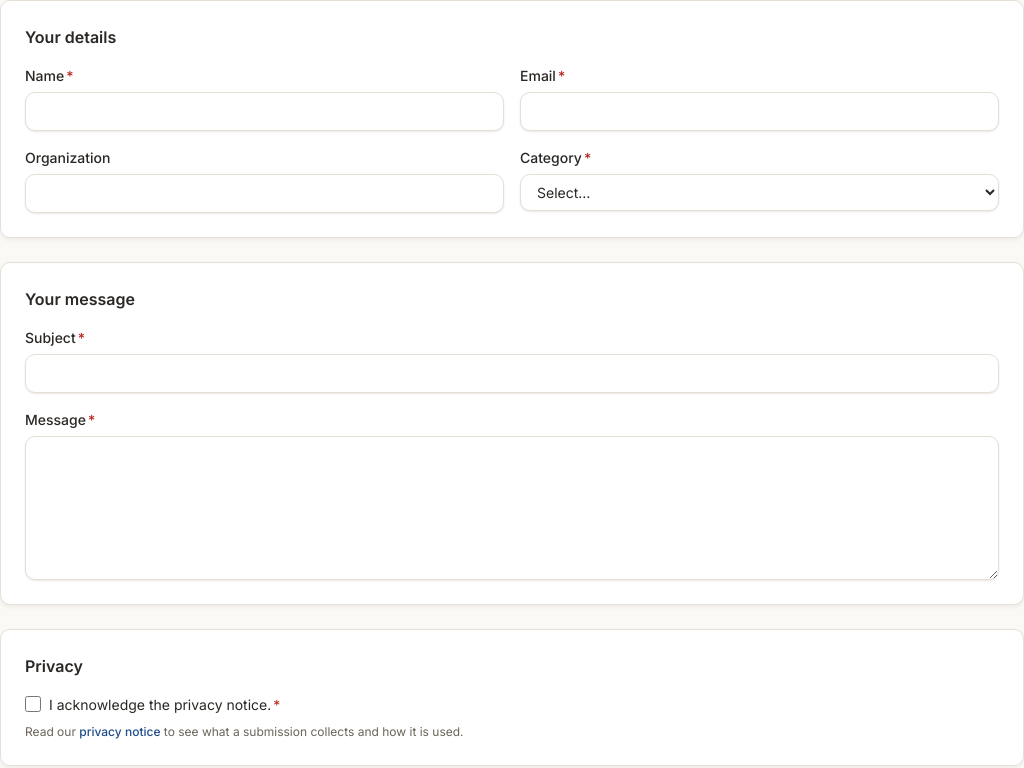
Test case: ContactForm › successful submission › announces success through a live region and clears the form
Type "Neema Mrema" into the field labelled "Name*" at [264, 112], box [25, 92, 504, 131]
Type "neema@khsc.co.tz" into the field labelled "Email*" at [760, 112], box [520, 92, 999, 131]
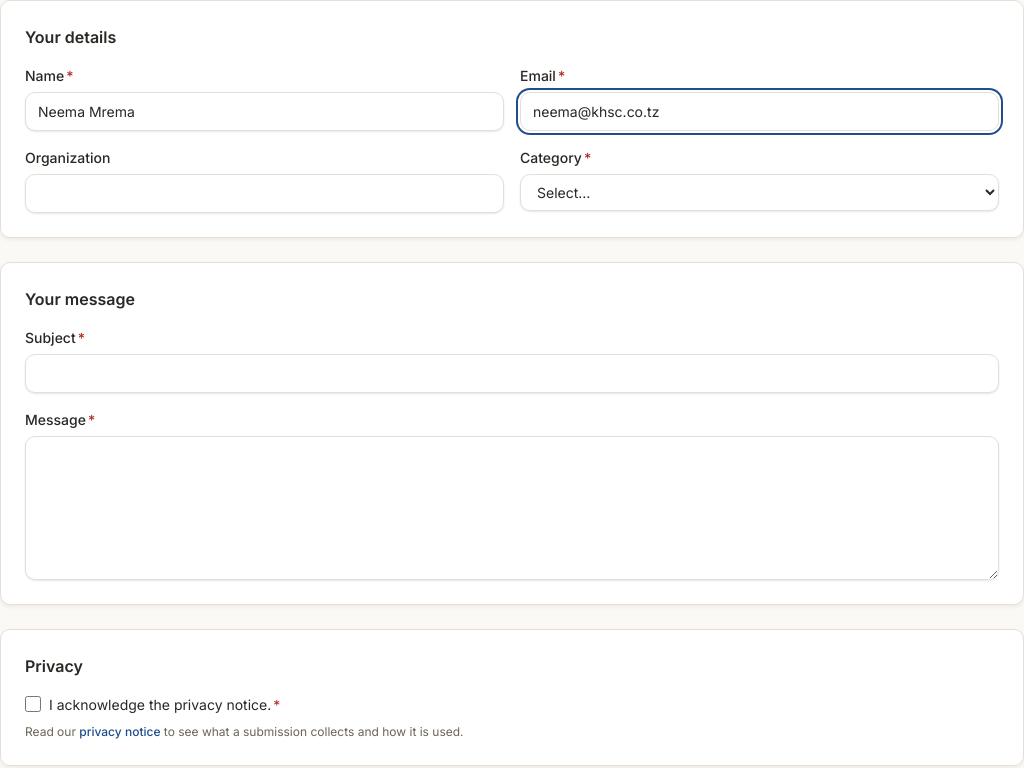
Select "General inquiry" in the dropdown labelled "Category*" at [760, 192], box [520, 174, 999, 211]
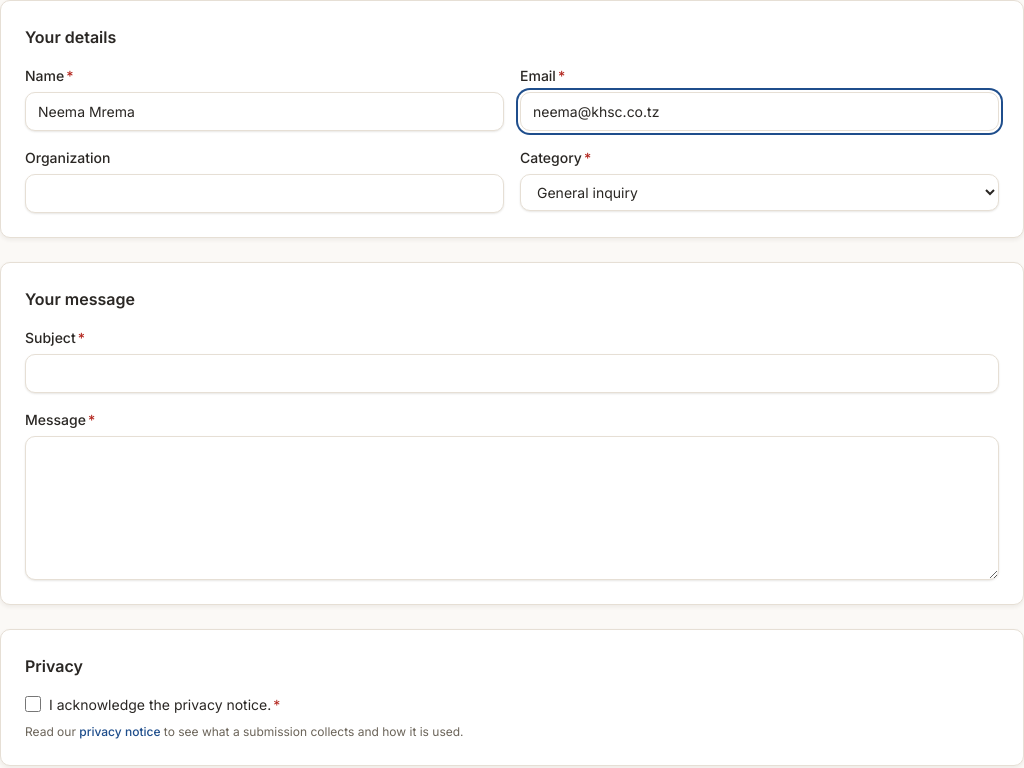
Type "Question about listing" into the field labelled "Subject*" at [512, 374], box [25, 354, 999, 393]
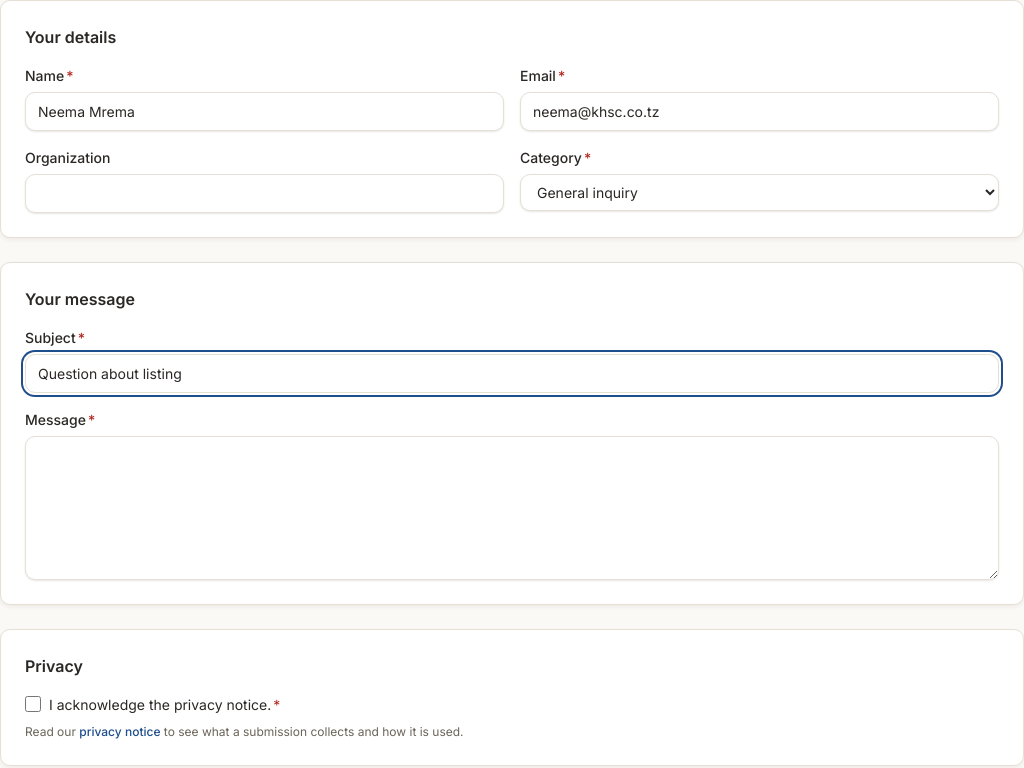
Type "How do we get listed in the public directory?" into the text box labelled "Message*" at [512, 508], box [25, 436, 999, 580]
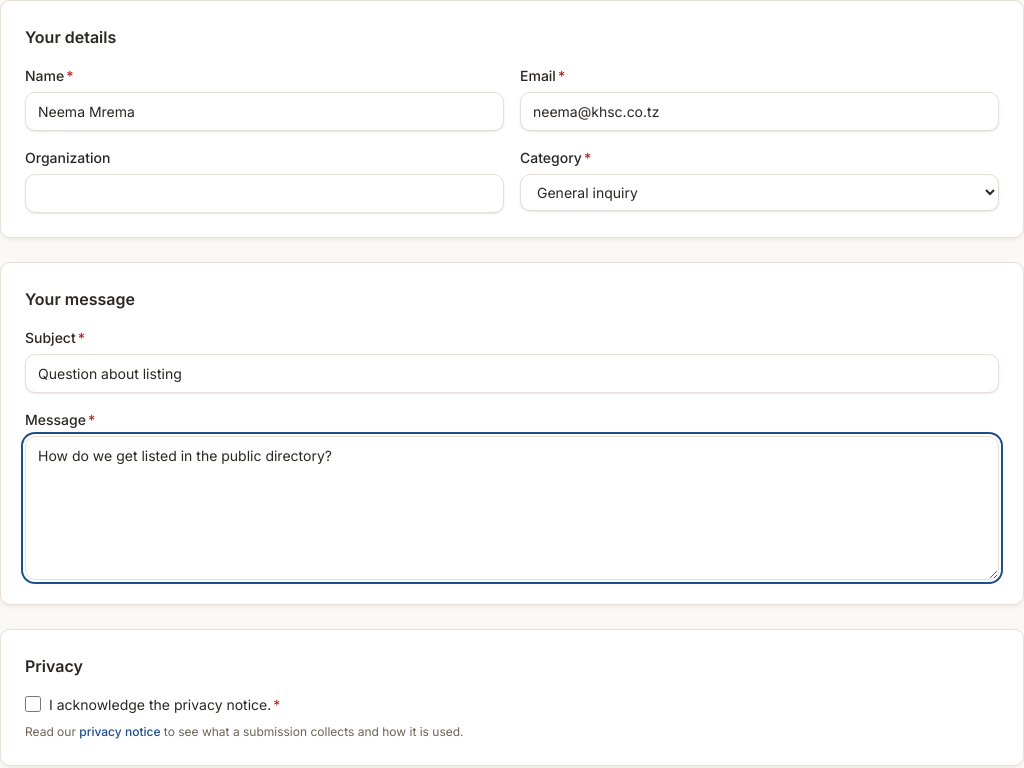
Click the checkbox labelled "I acknowledge the privacy notice.*" at [33, 704], box [25, 696, 41, 712]
(page scrolled)
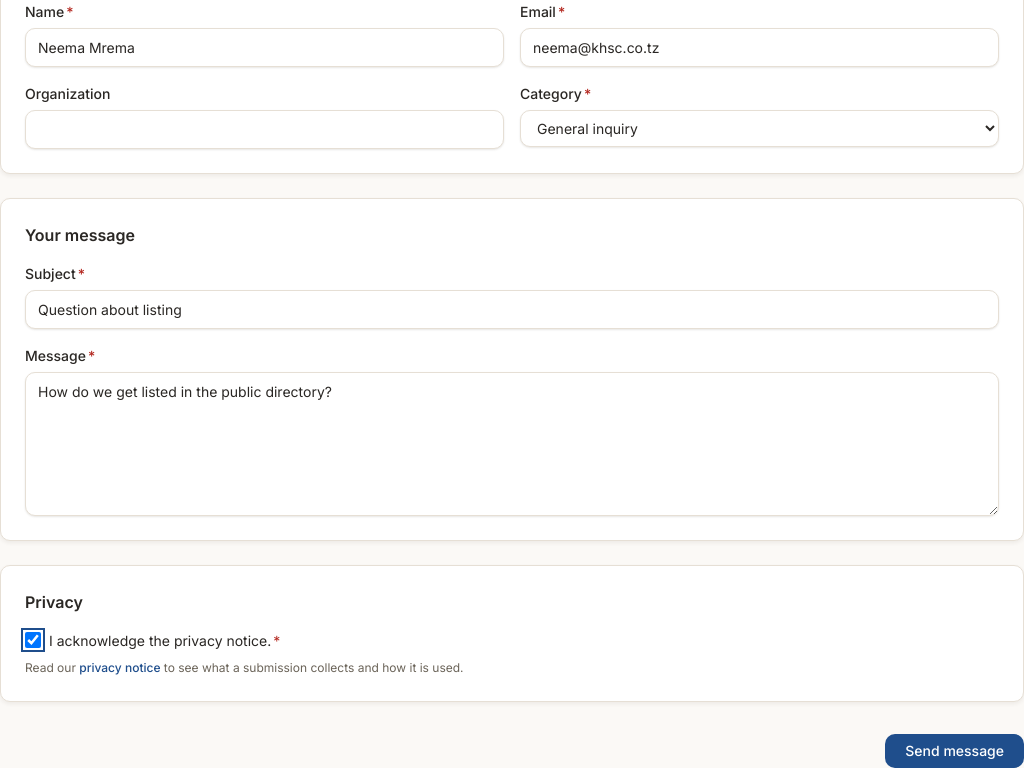
Click the button "Send message" at [955, 751], box [885, 734, 1023, 767]
(page scrolled)
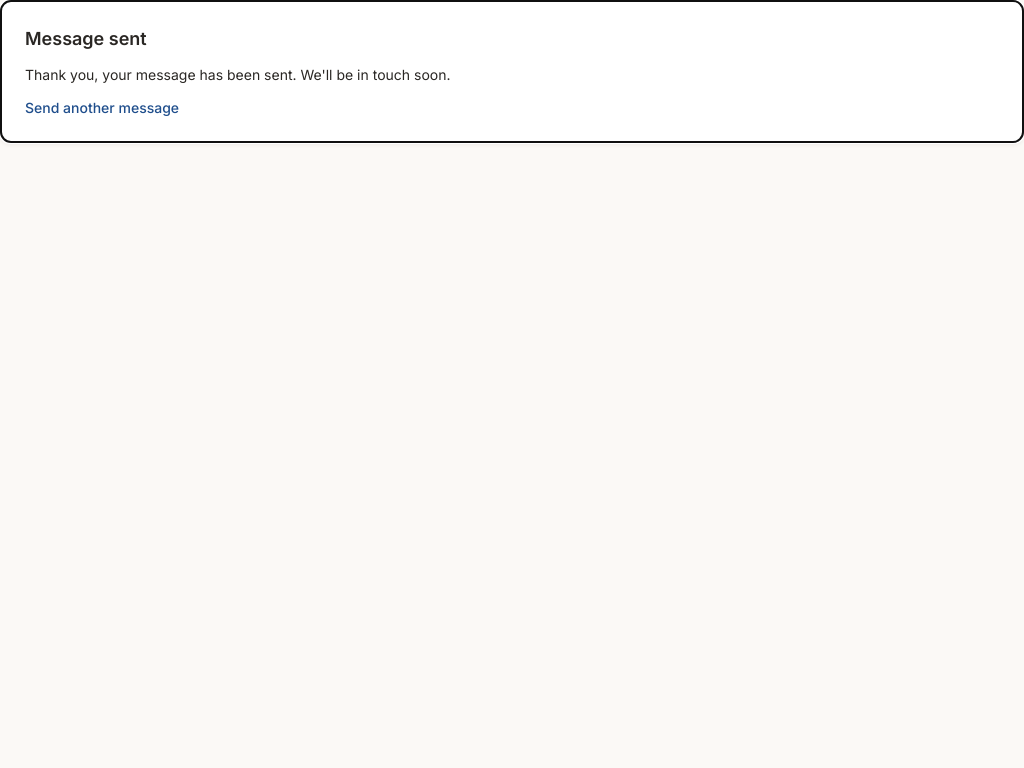
Expected: the message shows "Thank you, your message has been sent. We'll be in touch soon.", [25, 66, 450, 83]
Expected: the label labelled "Name" is gone
